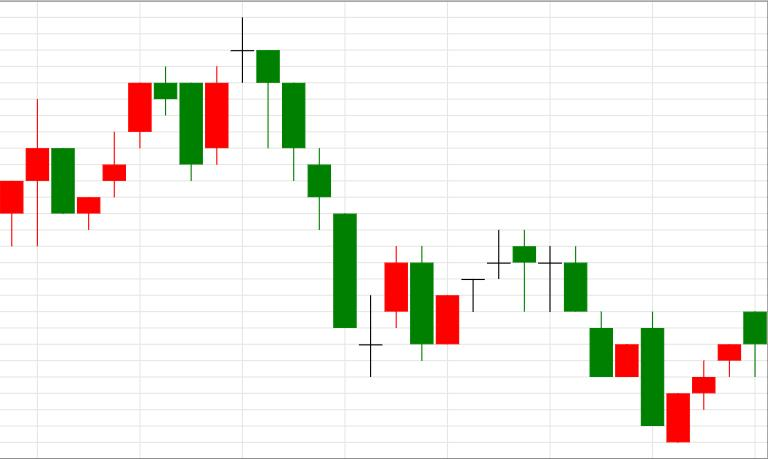morning_star_rise: (256, 51, 408, 378)
